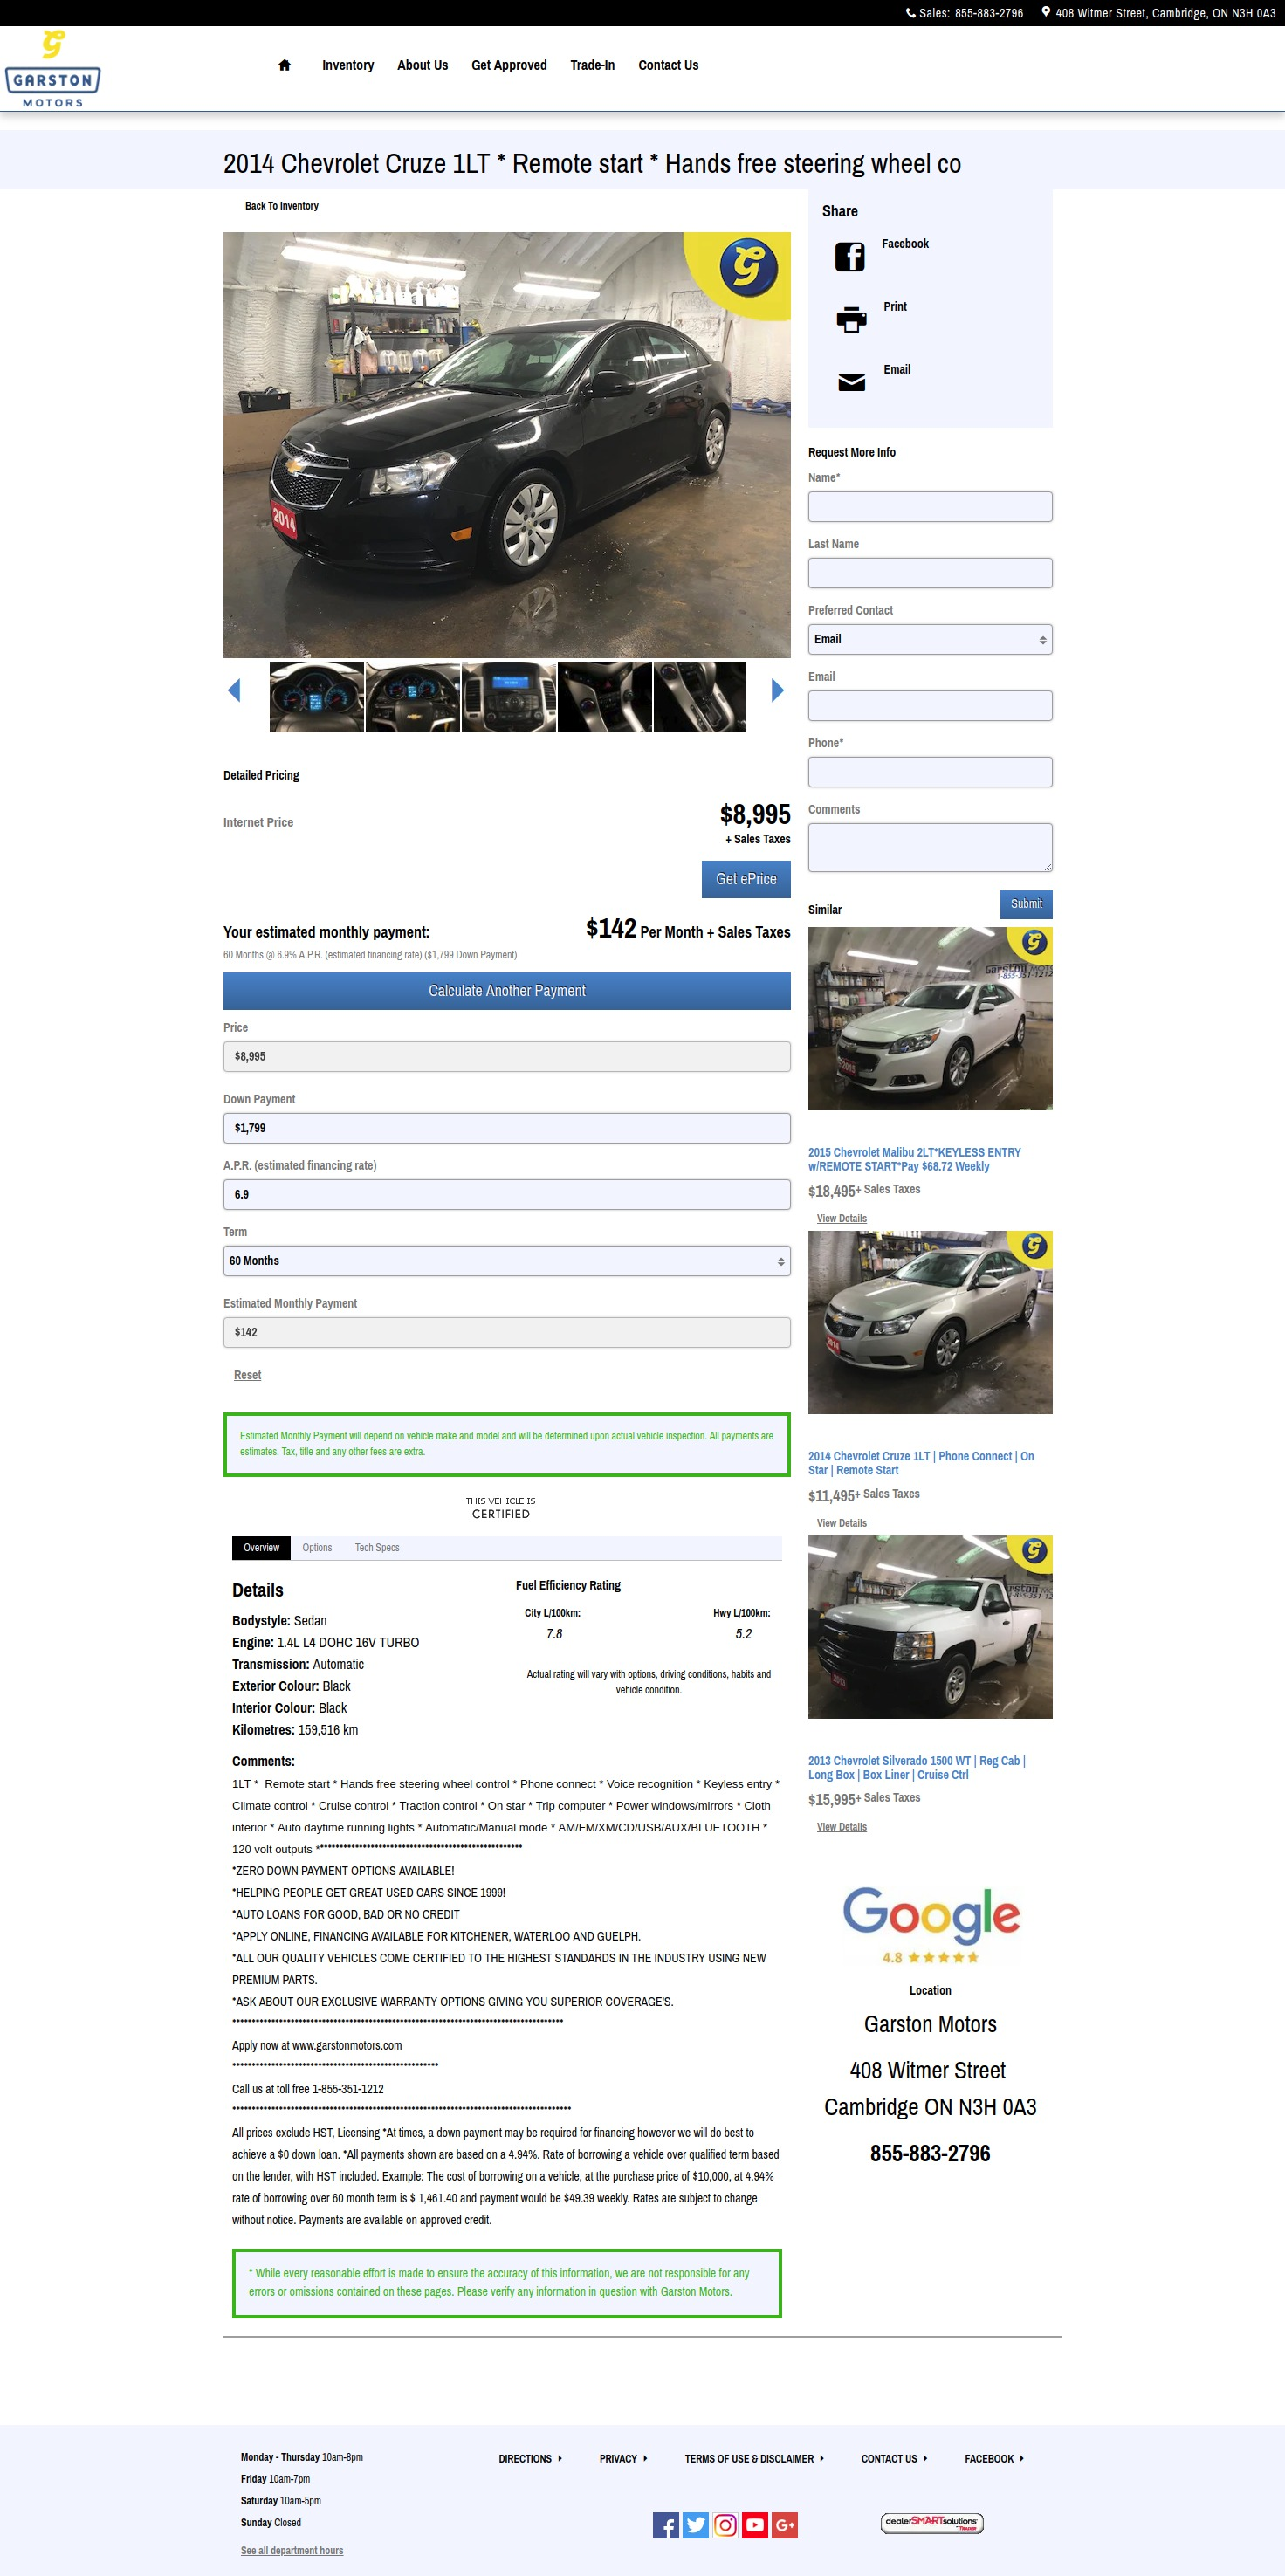car: (771, 678, 785, 703)
